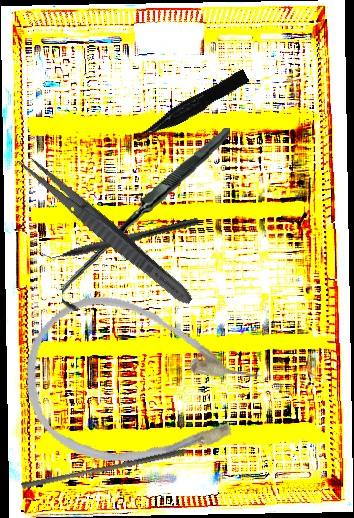Cannula: (8, 281, 272, 492)
Chopper: (34, 206, 200, 268)
Dressing Forceps: (13, 149, 198, 311)
Hook Surgical: (51, 127, 242, 313)
Pusher: (19, 441, 189, 496)
Tissue Forceps: (129, 68, 253, 145)
